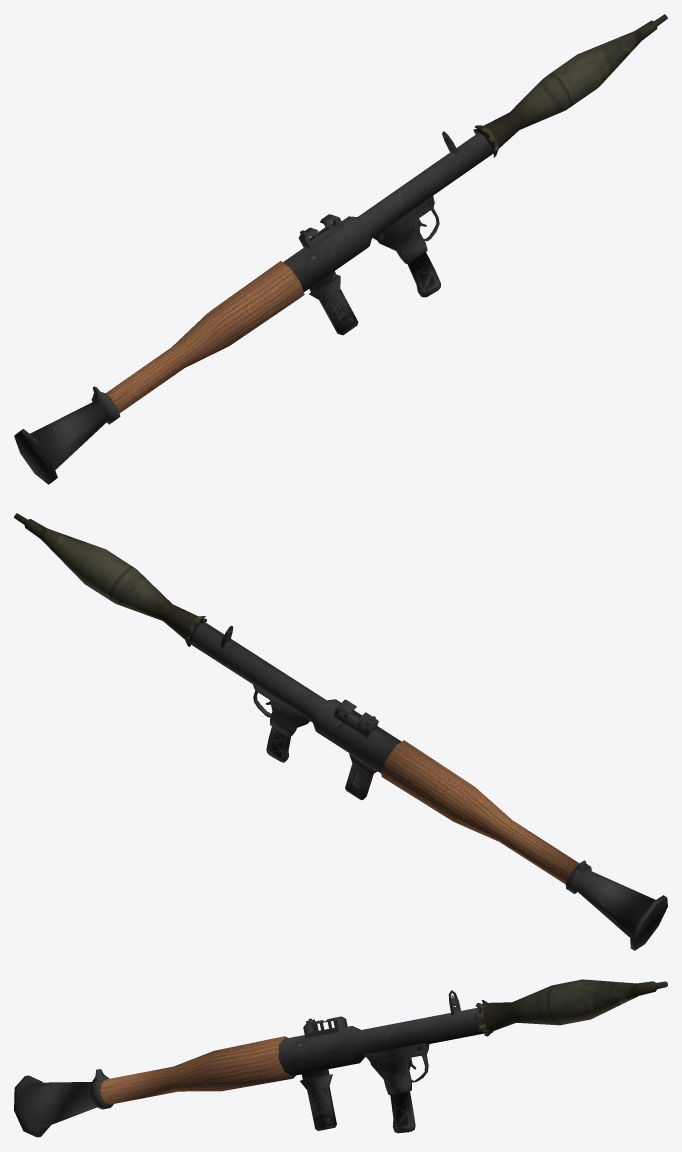
Rendered from RPG7.fbx.
The picture shows the model from 3 angles, top to bottom: view 1: azimuth 30°, elevation 25°; view 2: azimuth 150°, elevation 25°; view 3: azimuth 330°, elevation 25°; orthographic projection. The views are drawn at different scales.
Parts seen in each view (by area): view 1: RPG7, RPG7 Rocket; view 2: RPG7, RPG7 Rocket; view 3: RPG7, RPG7 Rocket.
Boxes of the visible parts, x1,y1,x2,y2 form: RPG7: [14, 131, 493, 484]; RPG7 Rocket: [473, 14, 667, 157]; RPG7: [190, 622, 667, 950]; RPG7 Rocket: [14, 513, 206, 646]; RPG7: [14, 990, 485, 1137]; RPG7 Rocket: [475, 979, 667, 1036].
Bounding box in the file's own units: 219 × 97.02 × 21.49.
Materials: 1 (1 with a texture image).
